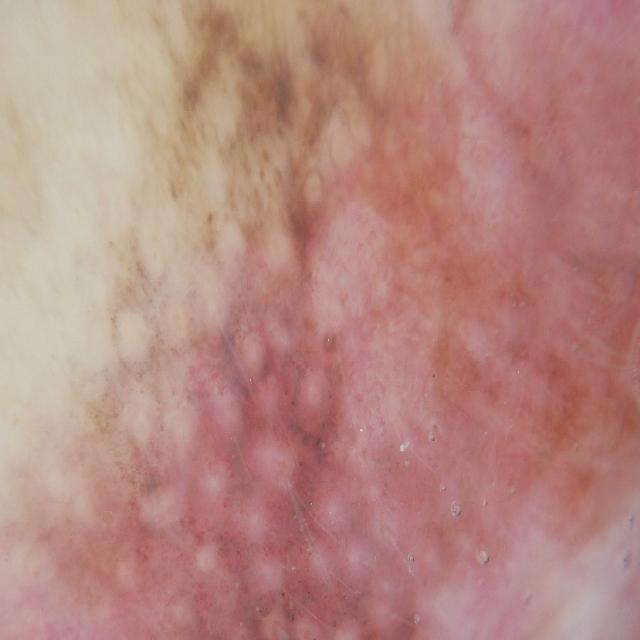Melanoma: (95, 158, 470, 640)
